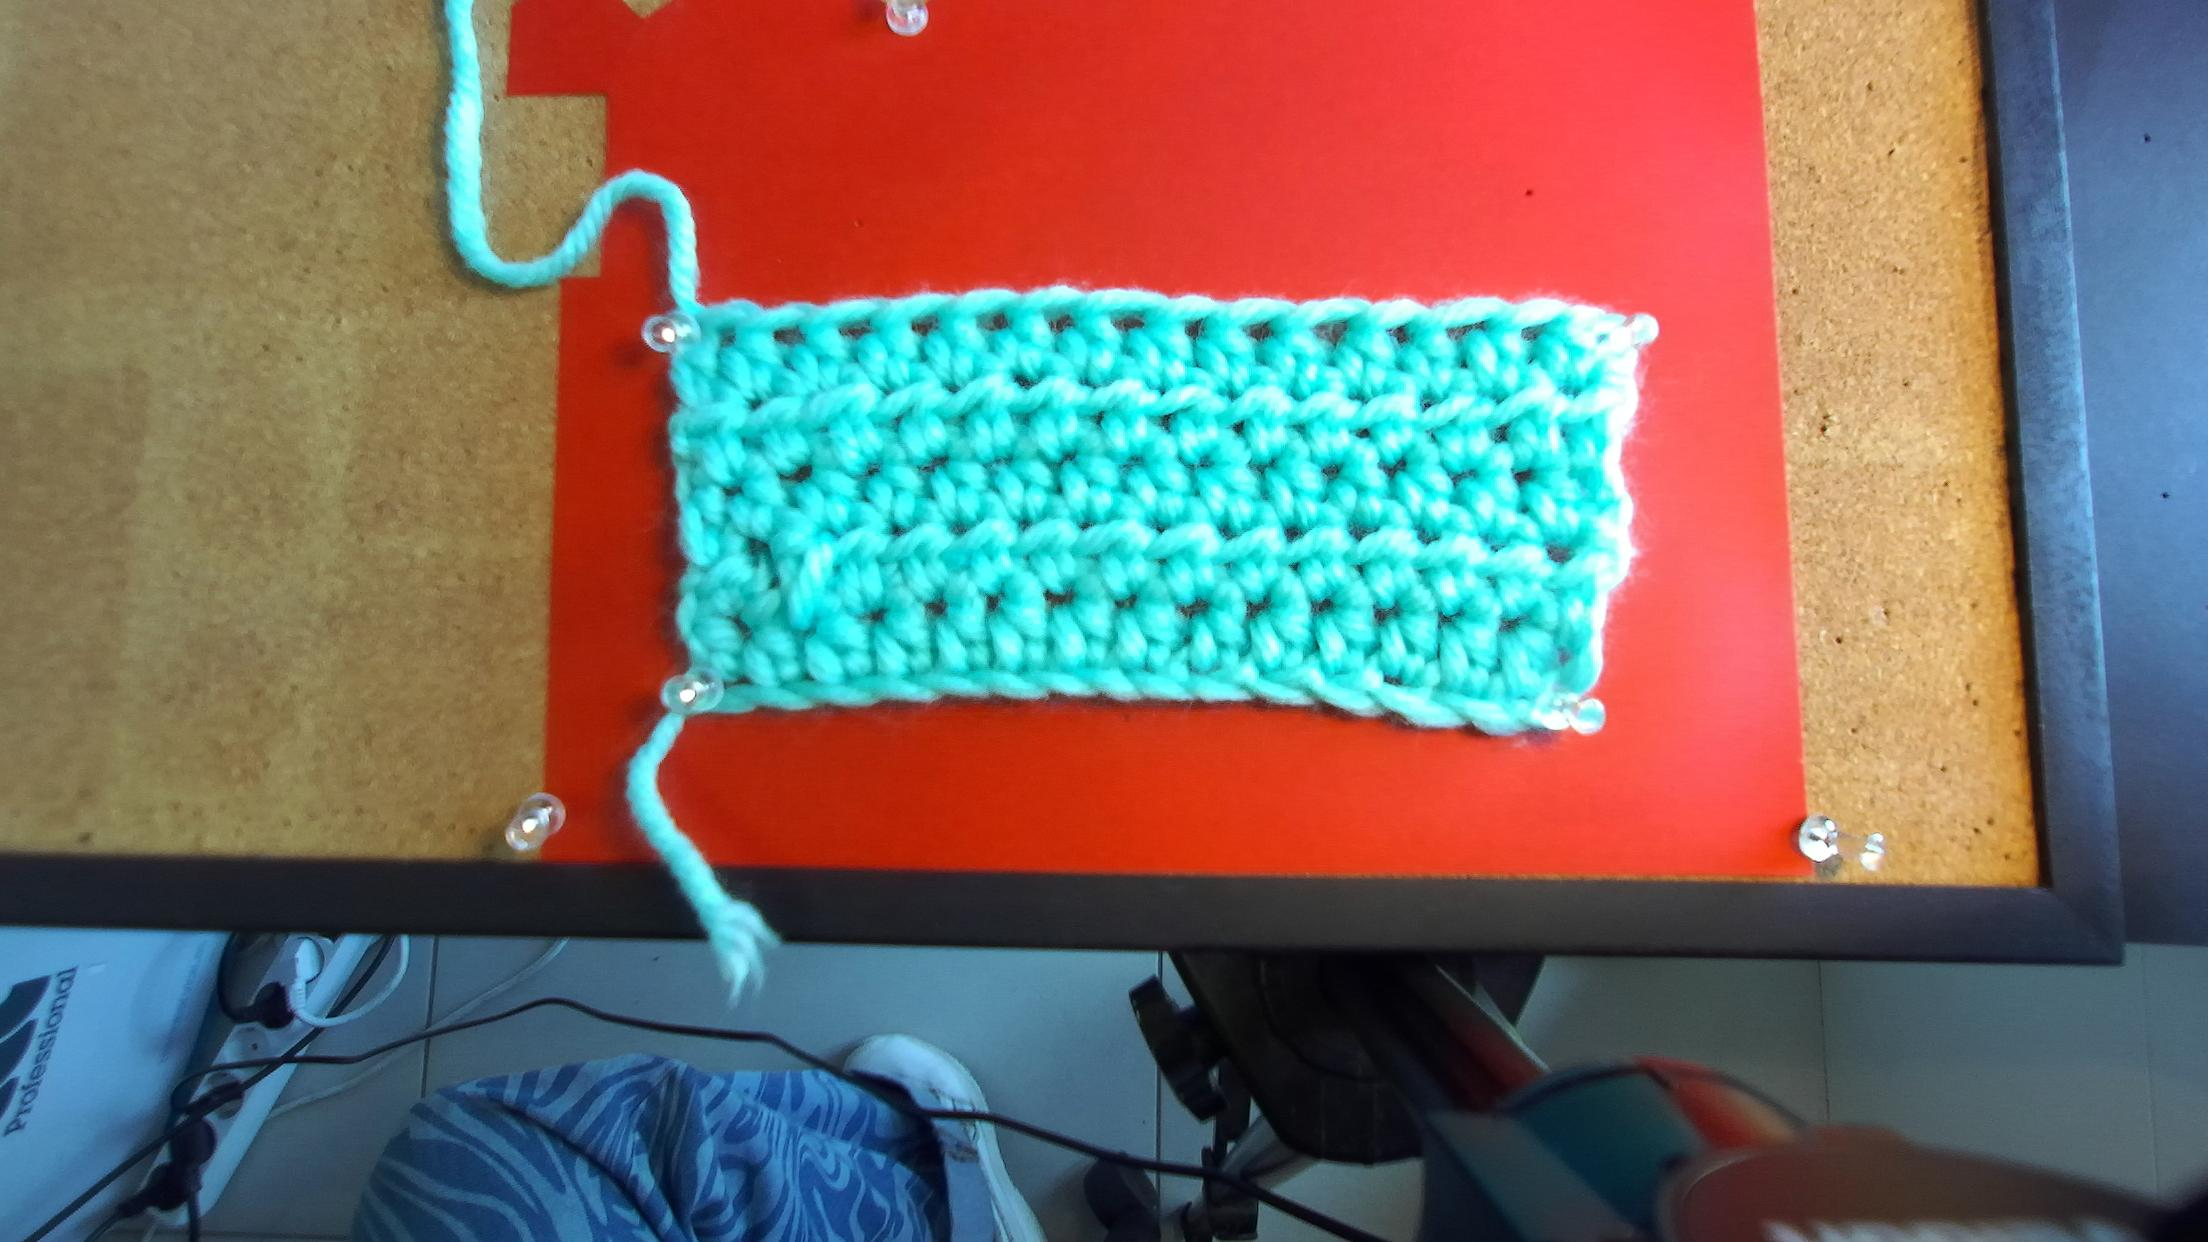hole: (1309, 320, 1351, 347), (1442, 320, 1485, 341), (837, 315, 873, 340), (972, 308, 1008, 332), (1239, 318, 1274, 343), (1109, 312, 1143, 335), (1045, 311, 1077, 335), (772, 325, 807, 346), (911, 311, 942, 335), (1516, 320, 1550, 341), (1181, 318, 1203, 341), (1389, 325, 1410, 347), (714, 326, 735, 347)
swatch: (648, 293, 1661, 742)
